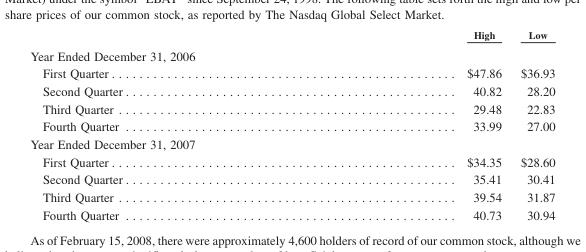table: (29, 28, 554, 221)
table column: (29, 28, 297, 221), (297, 28, 510, 221), (510, 28, 554, 221)
table column header: (29, 28, 554, 44)
table projected row header: (29, 44, 554, 64), (29, 134, 554, 152)
table row: (29, 44, 554, 64), (29, 81, 554, 99), (29, 99, 554, 117), (29, 134, 554, 152), (29, 152, 554, 170), (29, 187, 554, 205), (29, 64, 554, 81), (29, 117, 554, 134), (29, 170, 554, 187), (29, 28, 554, 44), (29, 205, 554, 221)
